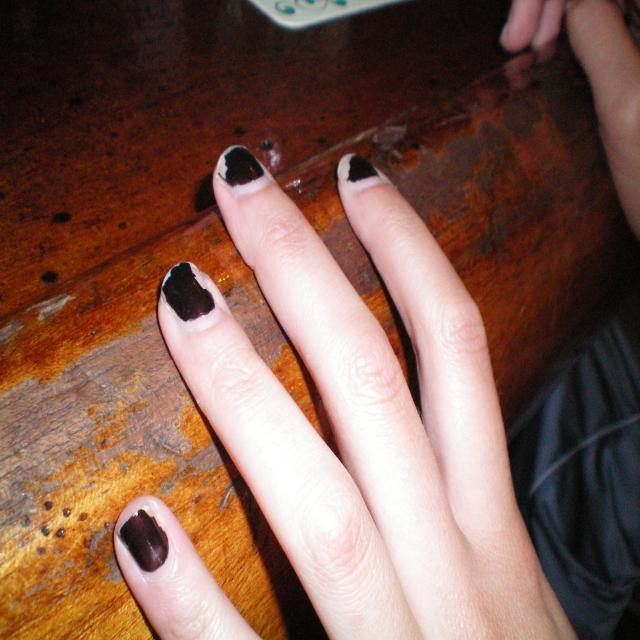Fingernail: (163, 263, 213, 322), (119, 511, 167, 571), (338, 153, 385, 191), (219, 148, 262, 187)
